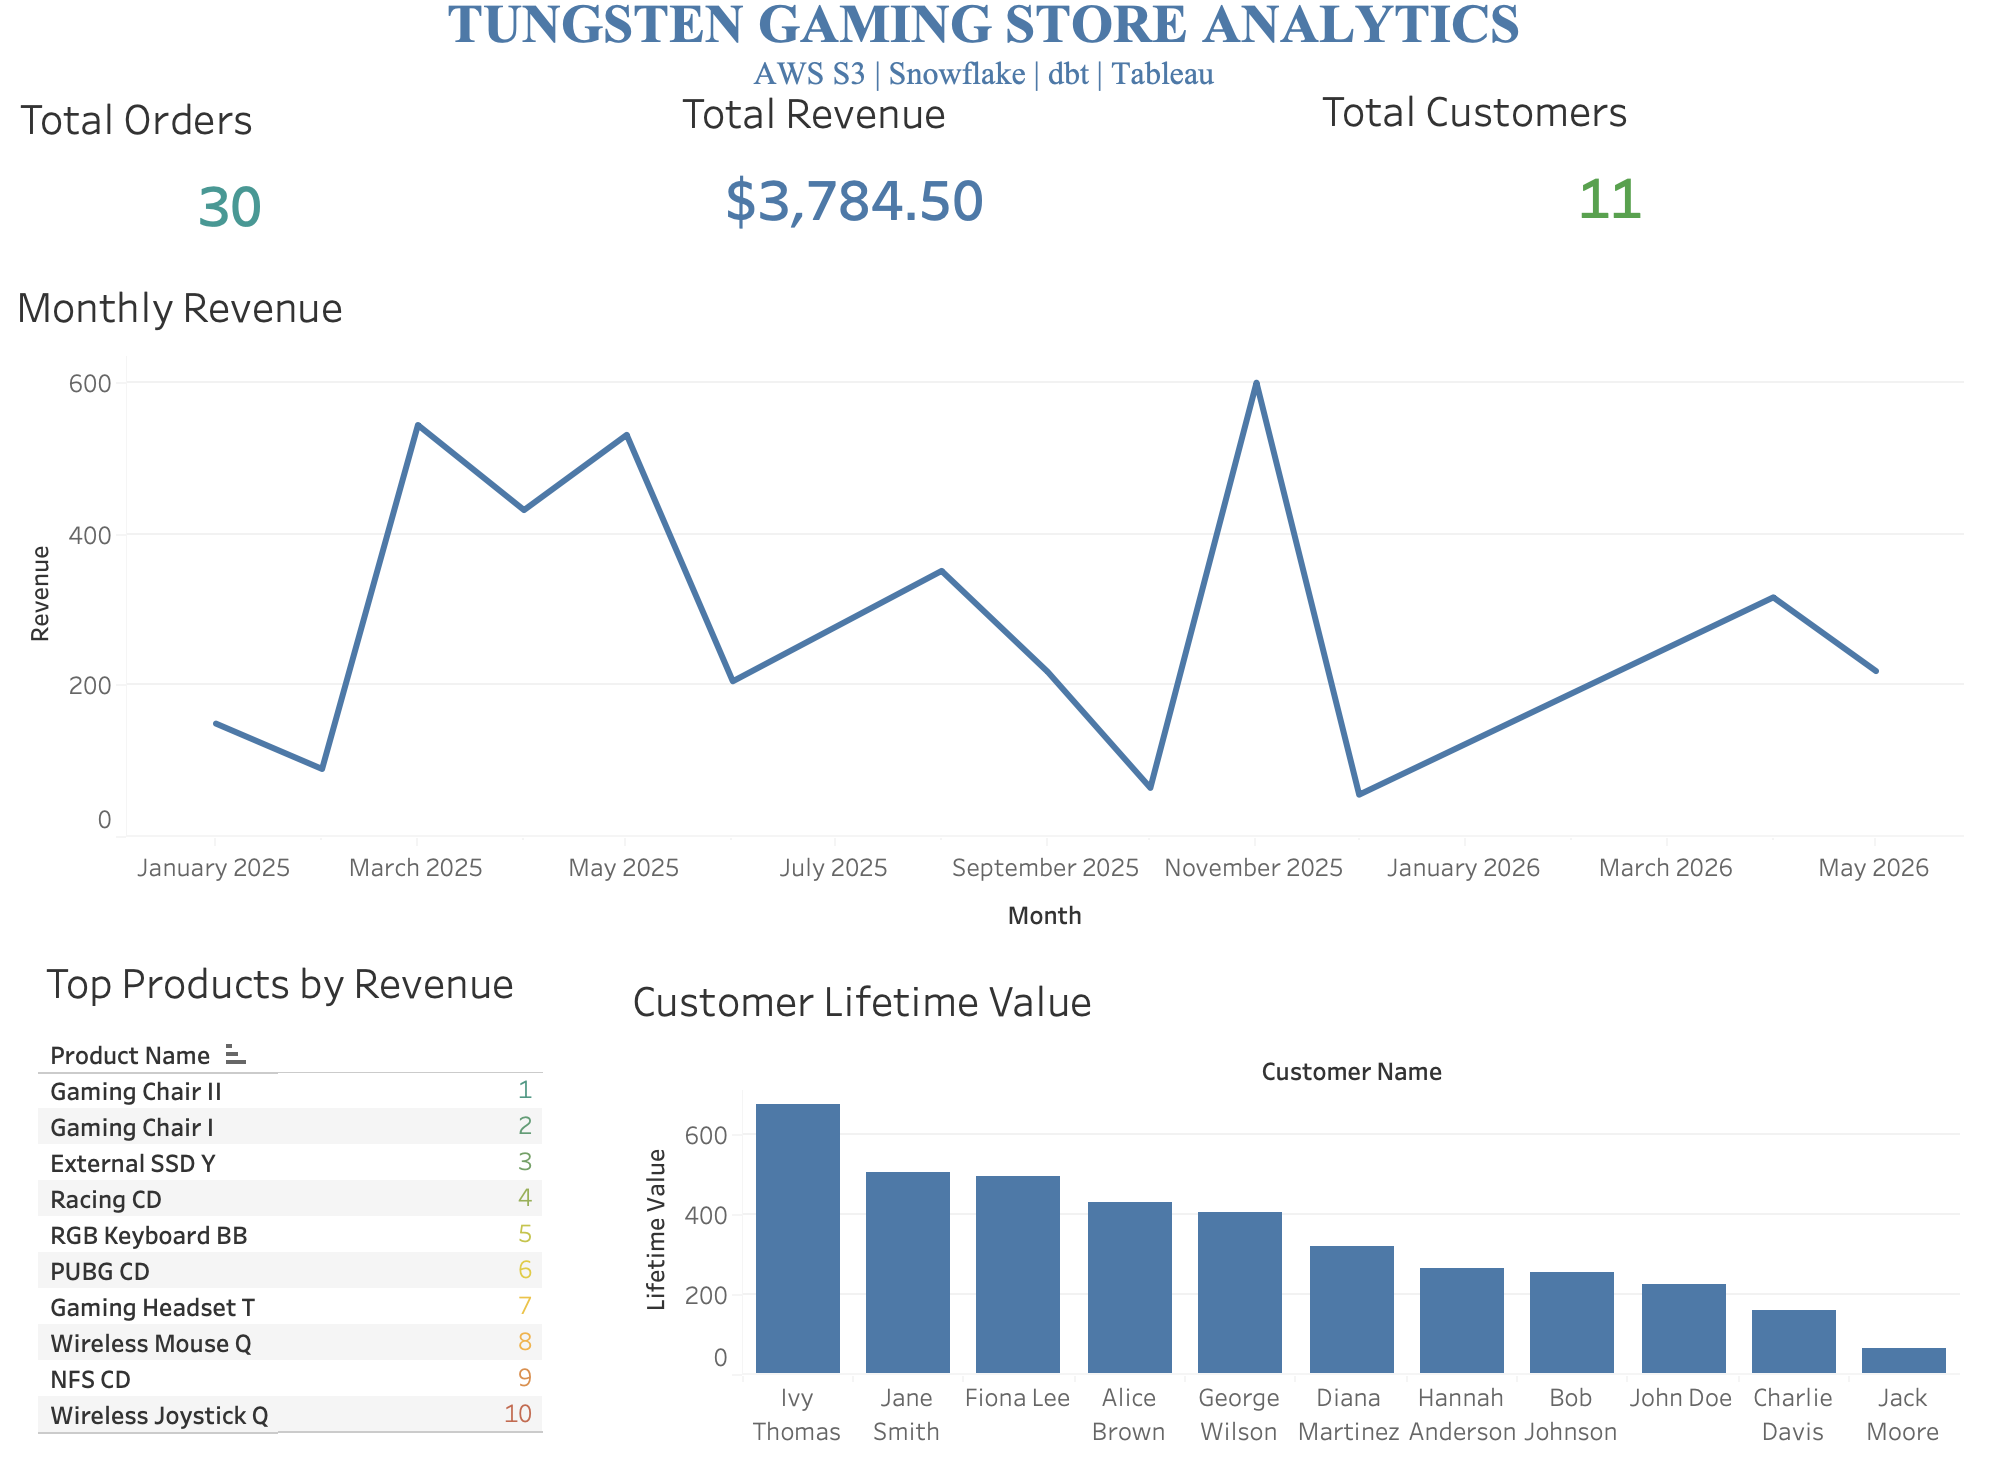

The page's visual inventory and layout, read from the dashboard file:
{"tool":"tableau","page":{"name":"Tungsten Gaming Store","canvas":[1000,800],"ordinal":0},"visuals":[{"type":"worksheet","title":"Total Customers","mark":"Text","box":[657,37,335,90]},{"type":"worksheet","title":"Total Revenue","mark":"Text","box":[337,38,241,105]},{"type":"worksheet","title":"Total Orders","mark":"Text","box":[6,41,306,83]},{"type":"worksheet","title":"Monthly Revenue","mark":"Line","rows":["REVENUE"],"cols":["MONTH"],"box":[4,135,978,338]},{"type":"worksheet","title":"Top Products by Revenue","mark":"Automatic","rows":["PRODUCT_NAME"],"box":[19,473,270,251]},{"type":"worksheet","title":"Customer Lifetime Value","mark":"Automatic","rows":["LIFETIME_VALUE"],"cols":["CUSTOMER_NAME"],"box":[312,482,668,245]}]}

Visuals, with their boxes on the page's 1000x800 design canvas (x1, y1, x2, y2). These are canvas units, not pixel positions in the 1994x1466 screenshot, which may show the page scaled, cropped or inside an application window:
"Total Customers" worksheet (Text marks): (657, 37, 992, 127)
"Total Revenue" worksheet (Text marks): (337, 38, 578, 143)
"Total Orders" worksheet (Text marks): (6, 41, 312, 124)
"Monthly Revenue" worksheet (Line marks): (4, 135, 982, 473)
"Top Products by Revenue" worksheet: (19, 473, 289, 724)
"Customer Lifetime Value" worksheet: (312, 482, 980, 727)
